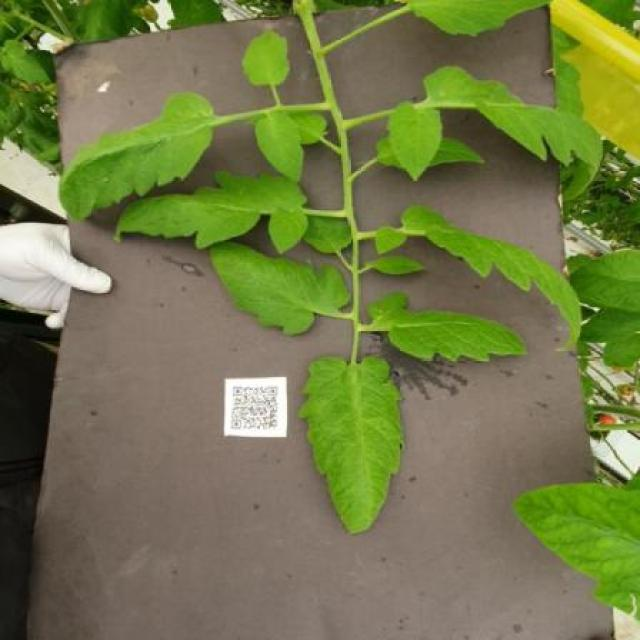Healthy: (374, 202, 584, 354), (56, 90, 215, 220), (302, 356, 402, 533), (112, 169, 311, 254), (206, 240, 353, 337), (367, 291, 527, 362), (386, 100, 444, 181), (252, 114, 305, 185), (242, 29, 292, 94)
